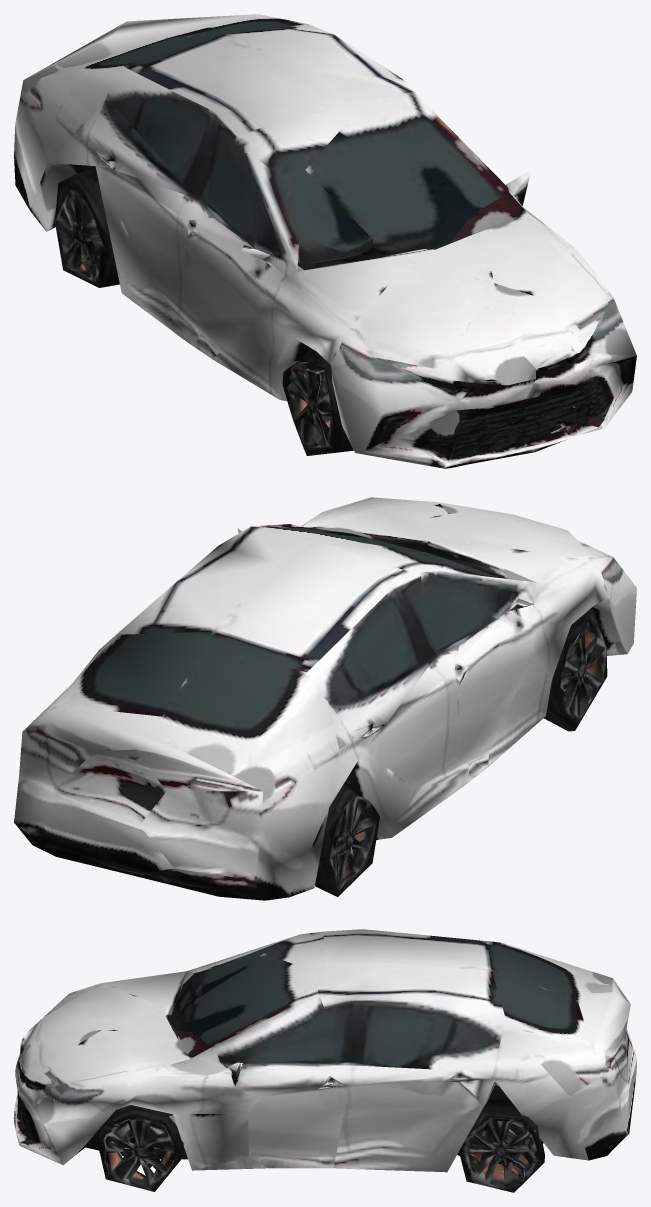
File: midsize_sedan.glb
3 renders of one model, top to bottom at view 1: azimuth 30°, elevation 25°; view 2: azimuth 150°, elevation 25°; view 3: azimuth 270°, elevation 25°, orthographic. The views are drawn at different scales.
Parts seen in each view (by area): view 1: tripo_node_805e7710-8e2a-4362-a8f4-2092acc1186d; view 2: tripo_node_805e7710-8e2a-4362-a8f4-2092acc1186d; view 3: tripo_node_805e7710-8e2a-4362-a8f4-2092acc1186d.
Part boxes in pixels (x1,y1,x2,y2): tripo_node_805e7710-8e2a-4362-a8f4-2092acc1186d: (14,14,636,468); tripo_node_805e7710-8e2a-4362-a8f4-2092acc1186d: (14,497,636,900); tripo_node_805e7710-8e2a-4362-a8f4-2092acc1186d: (14,929,636,1192).
Size of the model in its own units: 0.4239 by 0.3335 by 1.
1 material, 1 textured.
